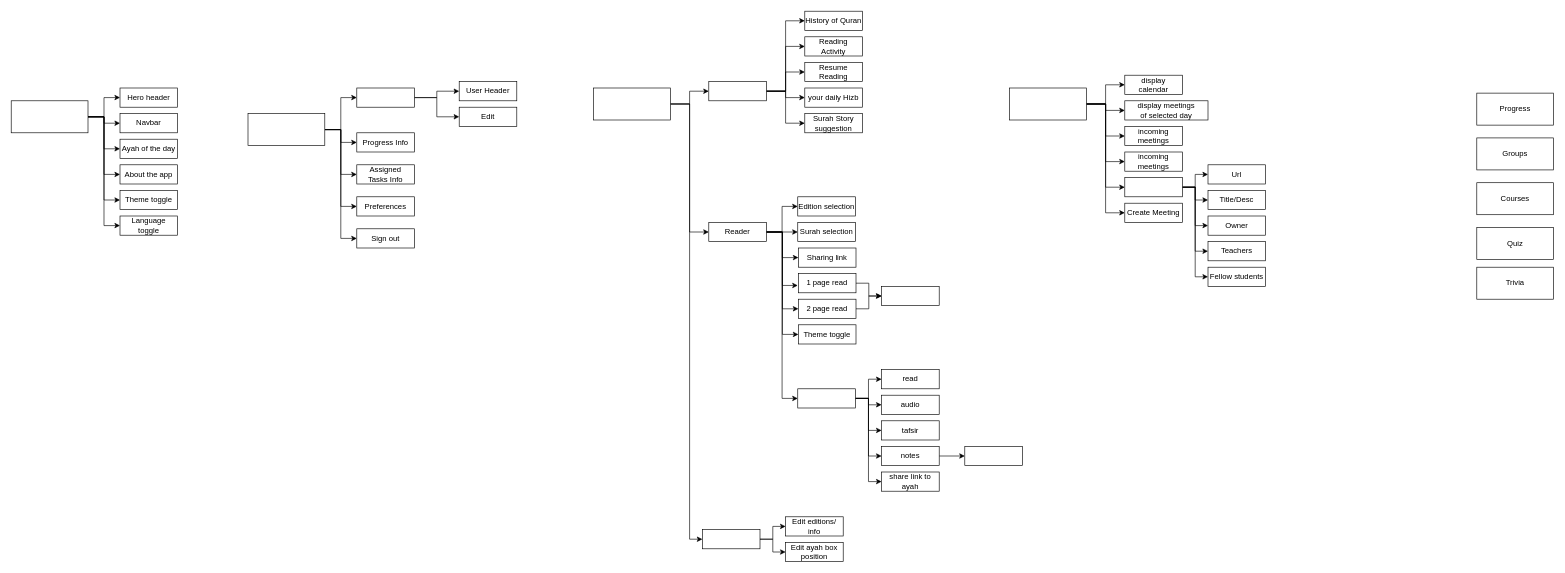
Image size: 1565x573. Some labels were removed from this diagram. Here are the shapes that lost their labels. From the top down, the box of each, then its label:
(356, 87, 414, 107): User Info
(593, 87, 670, 120): Quran Reader
(708, 81, 766, 101): Landing page
(1009, 87, 1086, 120): Meetings
(11, 100, 88, 133): Home
(247, 113, 325, 146): Account
(1124, 177, 1182, 197): Meeting selection
(881, 286, 939, 306): Switch mode
(797, 388, 855, 408): Ayah selection
(964, 446, 1022, 466): chat history of group on ayah
(702, 529, 760, 549): Editor
